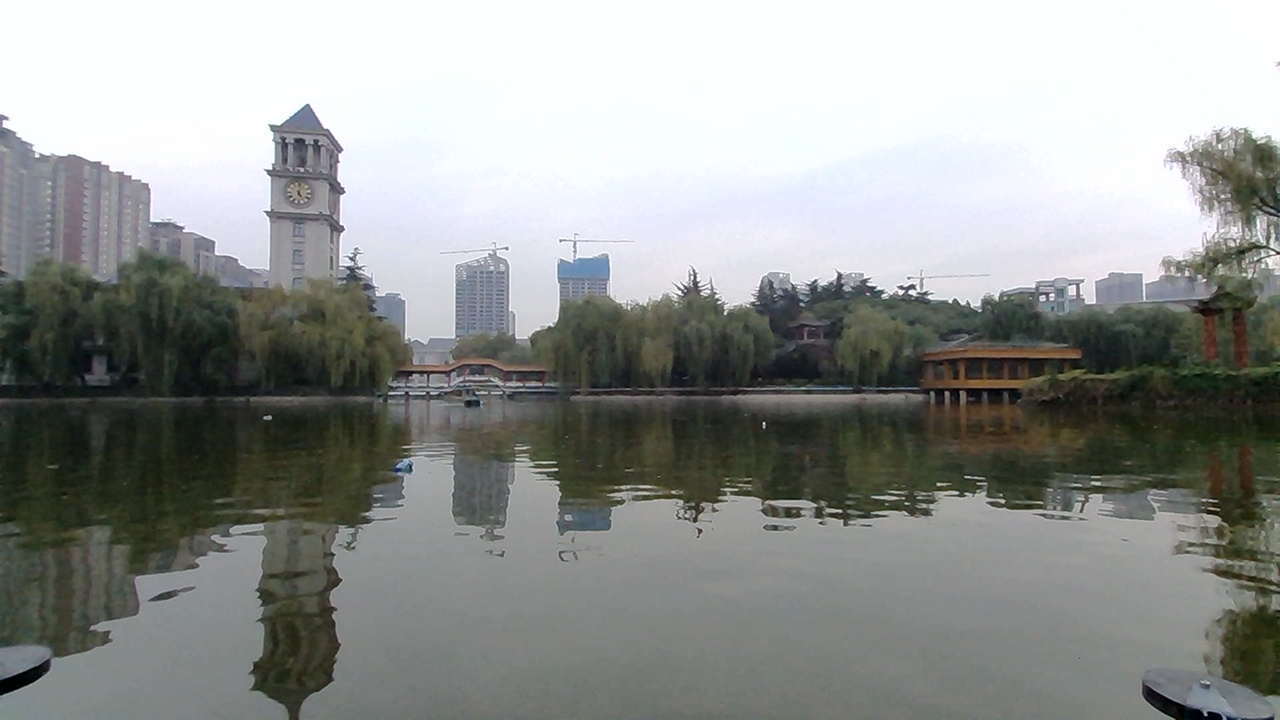bottle: (386, 455, 425, 479), (753, 411, 777, 435), (259, 404, 282, 422)
